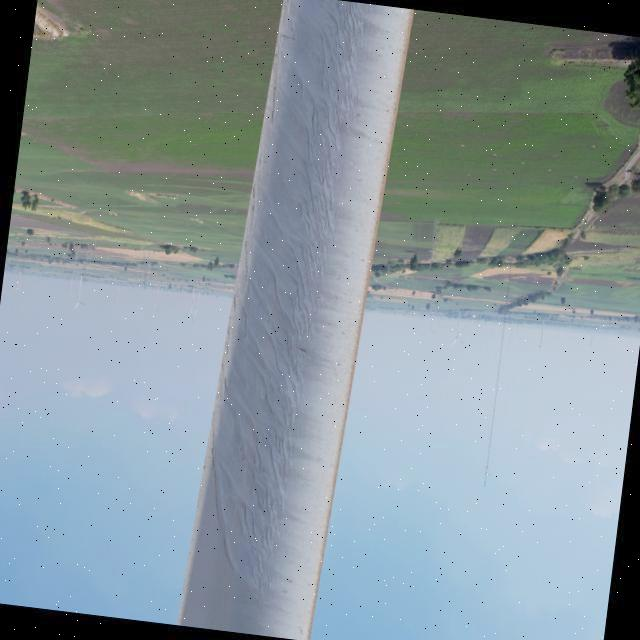Dirt: (218, 8, 418, 595)
